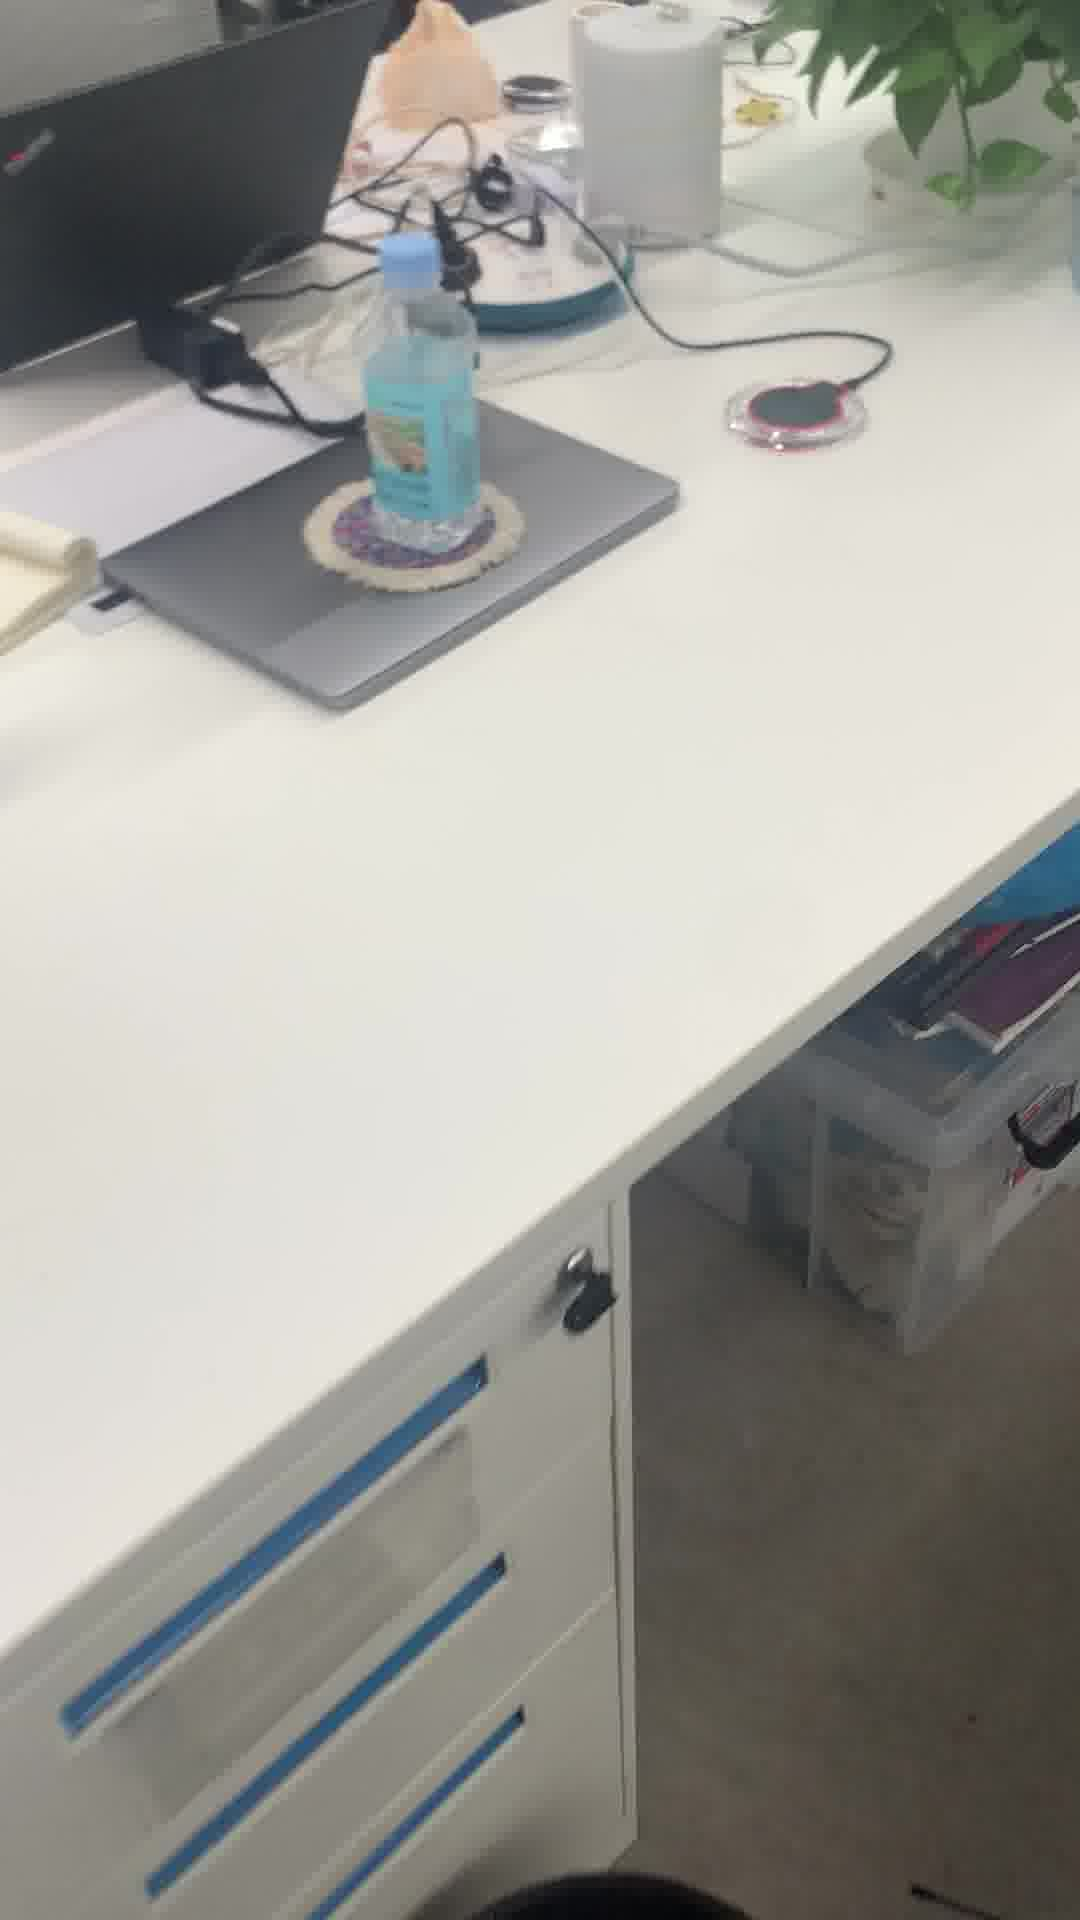水瓶: (351, 233, 502, 562)
